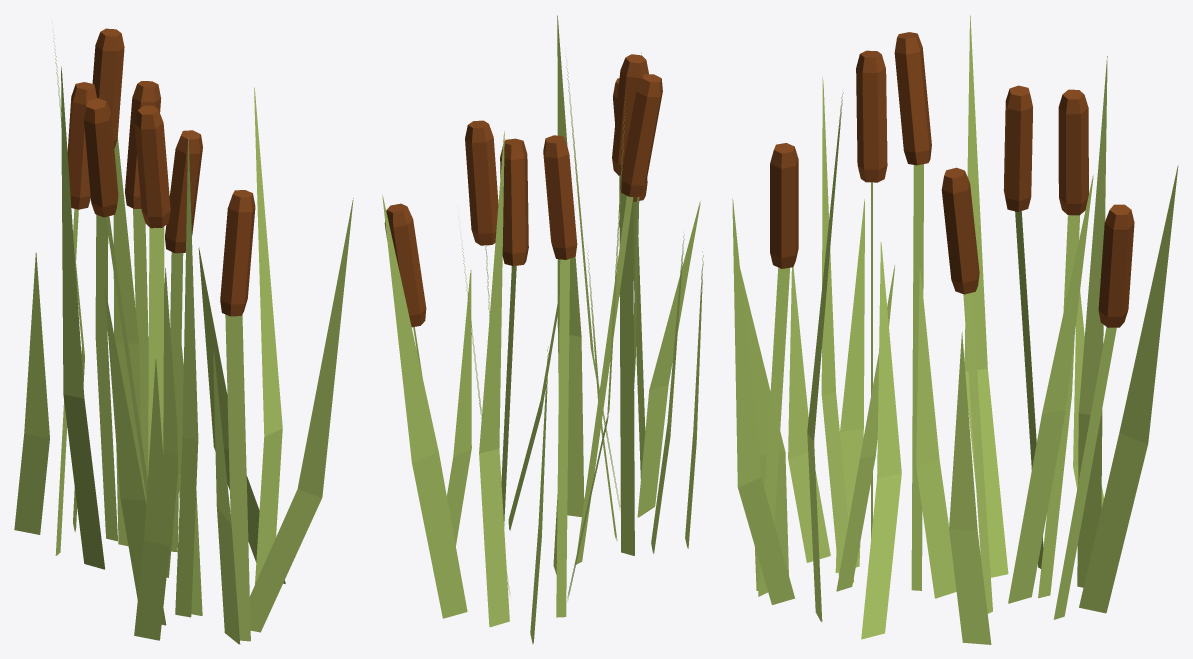
The model's file is Plant5.fbx.
3 views of the same model, side by side, from view 1: azimuth 30°, elevation 25°; view 2: azimuth 150°, elevation 25°; view 3: azimuth 270°, elevation 25° (orthographic). The views are drawn at different scales.
Visible parts, largest first — view 1: Plants5; view 2: Plants5; view 3: Plants5.
Boxes of the visible parts, x1=… form: Plants5: x1=14, y1=23, x2=353, y2=644; Plants5: x1=382, y1=15, x2=703, y2=644; Plants5: x1=732, y1=15, x2=1178, y2=644.
Size of the model in its own units: 0.6569 by 1.72 by 1.29.
